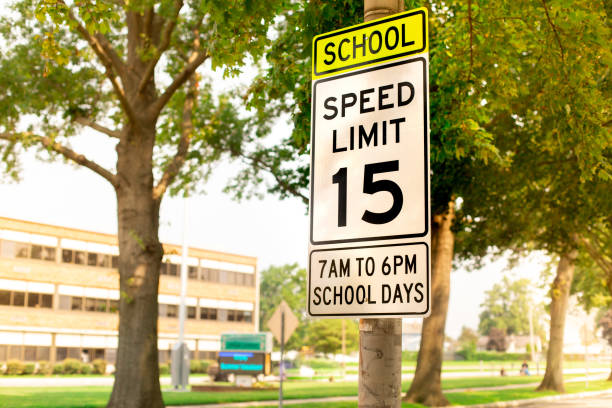SpeedLimitSign: (306, 57, 431, 246)
